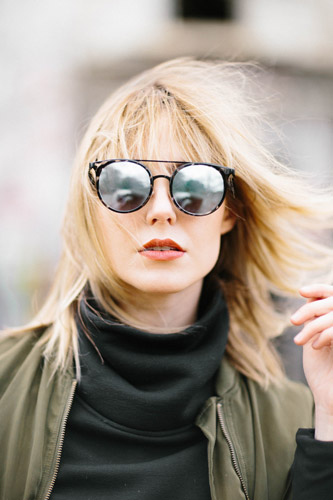female: (1, 52, 333, 500)
